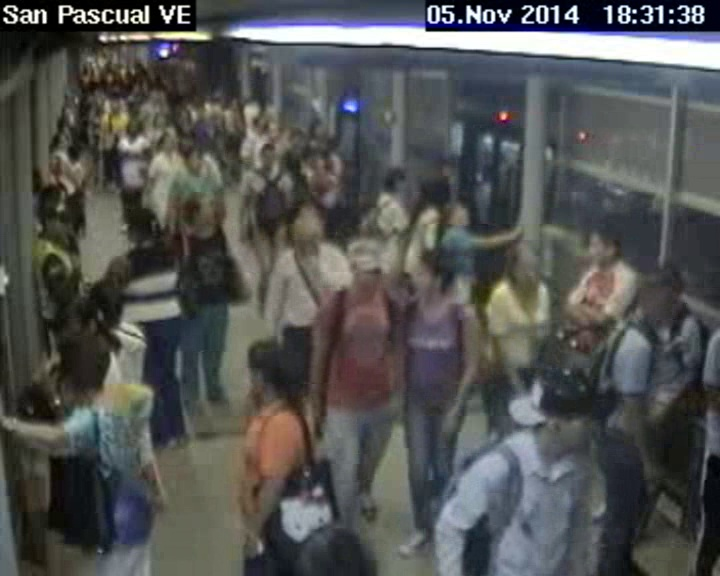person: (507, 358, 603, 460), (240, 339, 306, 414), (53, 333, 113, 396), (338, 236, 387, 297), (407, 247, 456, 301), (507, 237, 546, 297), (87, 281, 133, 330), (49, 300, 103, 339), (636, 274, 677, 325), (37, 199, 75, 244), (125, 208, 163, 251), (175, 192, 215, 232), (584, 226, 620, 270), (284, 209, 321, 251), (417, 170, 452, 208), (382, 166, 411, 196), (449, 201, 469, 235), (182, 146, 205, 173), (281, 150, 302, 178), (247, 111, 267, 136), (155, 130, 174, 156), (257, 143, 275, 168), (123, 117, 145, 137), (310, 116, 328, 139), (66, 144, 83, 164), (51, 132, 67, 150), (108, 100, 122, 116)
